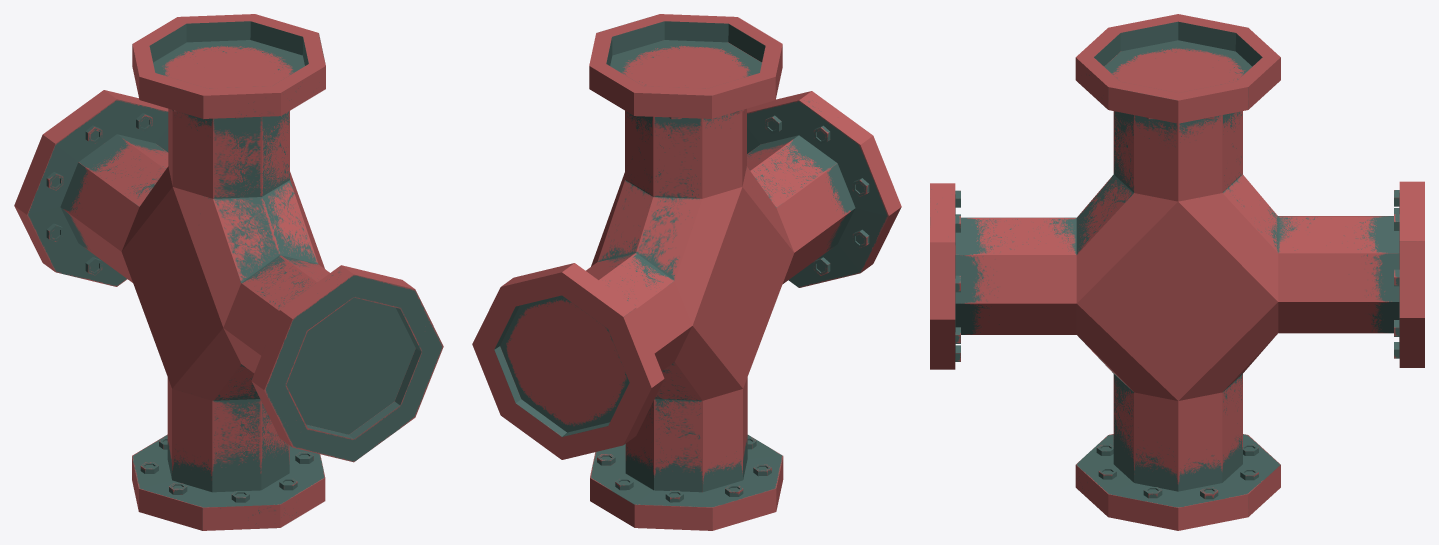
File: PIPE_4.fbx
The picture shows the model from 3 angles, left to right: view 1: azimuth 30°, elevation 25°; view 2: azimuth 150°, elevation 25°; view 3: azimuth 270°, elevation 25°; orthographic projection.
Parts seen in each view (by area): view 1: Plane.002; view 2: Plane.002; view 3: Plane.002.
Boxes of the visible parts, x1=… form: Plane.002: x1=14, y1=14, x2=443, y2=530; Plane.002: x1=472, y1=14, x2=901, y2=530; Plane.002: x1=930, y1=14, x2=1424, y2=530.
Size of the model in its own units: 561 by 1296 by 1350.
